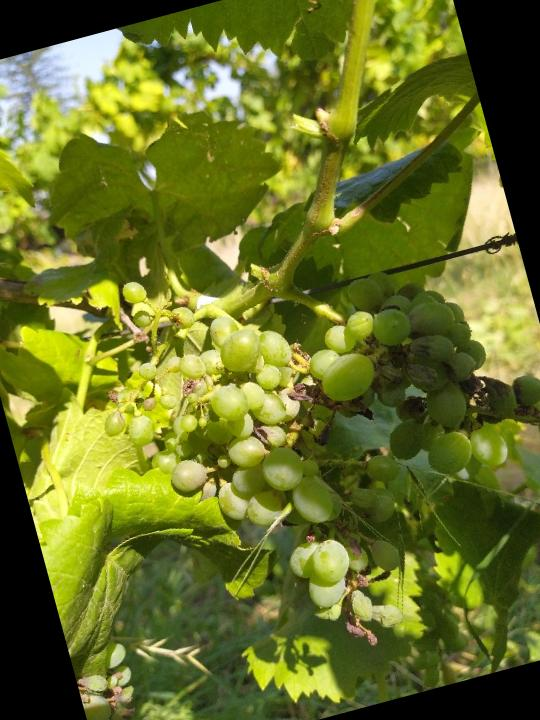grape: (65, 226, 432, 703), (285, 232, 540, 518)
